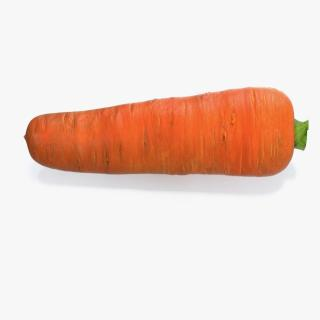carrot: (24, 79, 310, 177)
